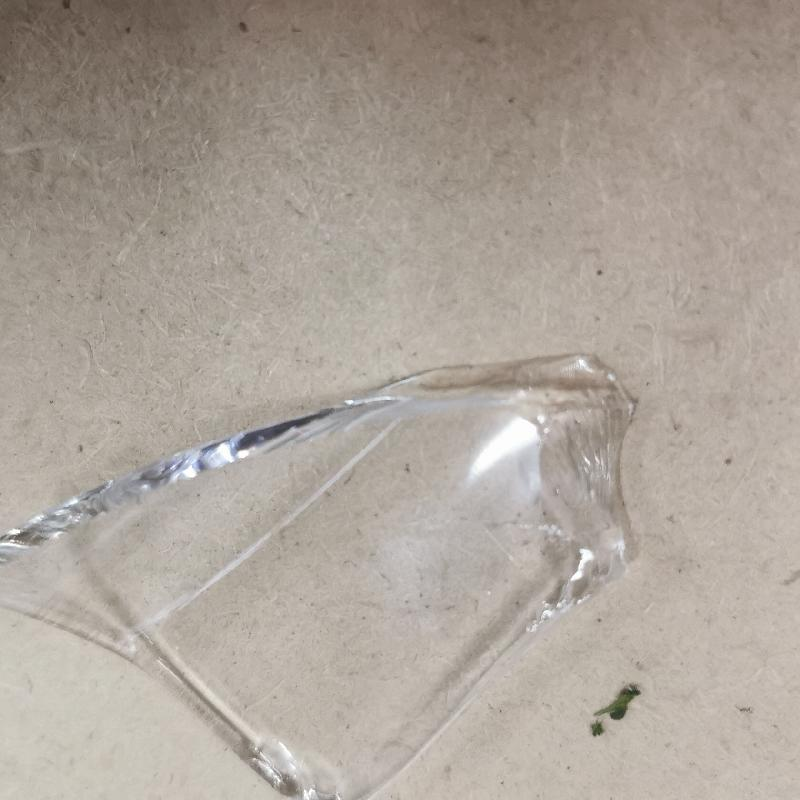glass: (2, 347, 637, 800)
